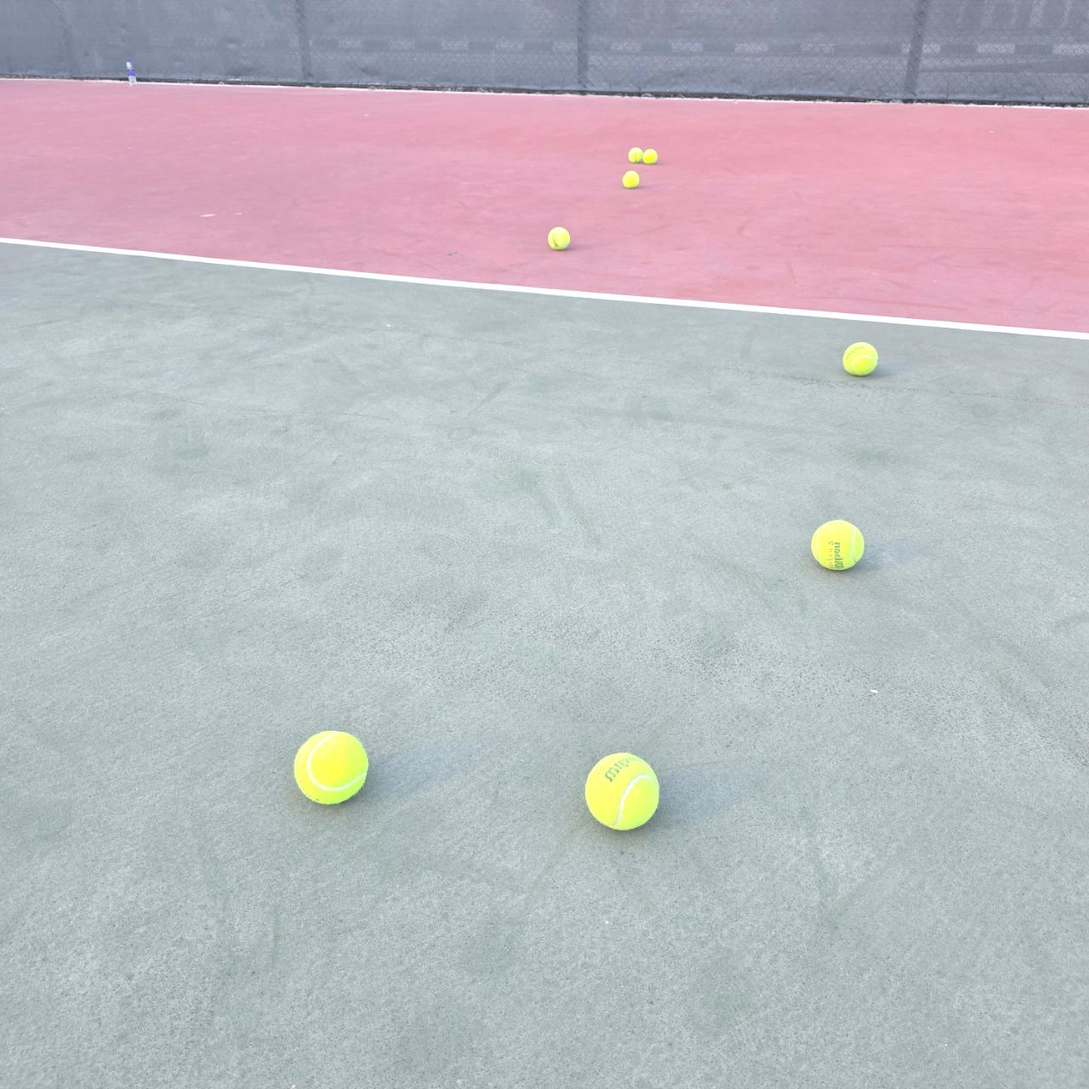tennis-ball: (584, 750, 662, 832), (294, 727, 371, 806), (811, 516, 867, 571), (842, 341, 880, 376), (548, 224, 573, 250), (623, 171, 639, 189), (628, 147, 644, 163), (643, 148, 658, 164)
